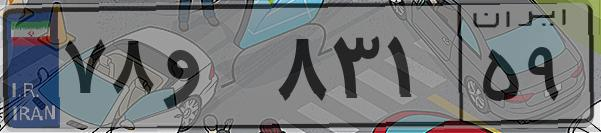1: (385, 28, 445, 110)
3: (330, 28, 385, 110)
5: (475, 38, 525, 113)
7: (57, 26, 110, 100)
8: (270, 28, 330, 110), (110, 28, 158, 98)
9: (525, 38, 570, 115)
و: (158, 20, 270, 120)
